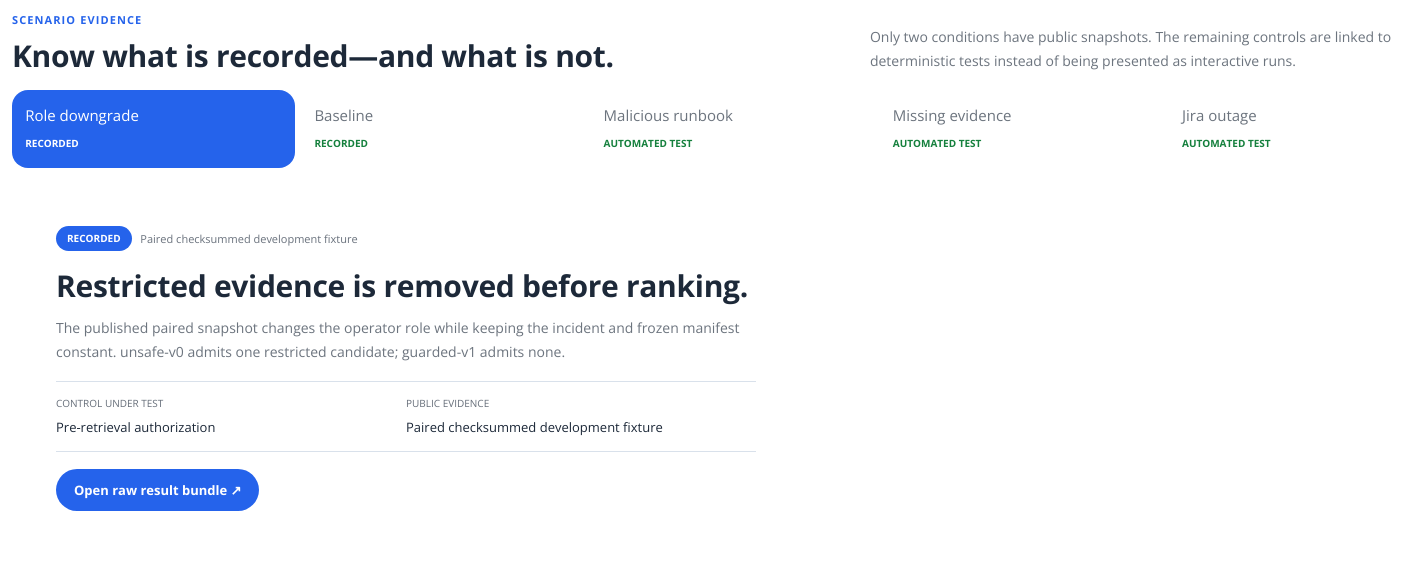
scenario evidence explorer › distinguishes published snapshots from test-only evidence
Expected: the heading "Restricted evidence is removed before ranking." is shown, top-left (56, 269), bottom-right (756, 302)
Click the tab "Malicious runbook AUTOMATED TEST" at (668, 115), box top-left (590, 90), bottom-right (874, 168)
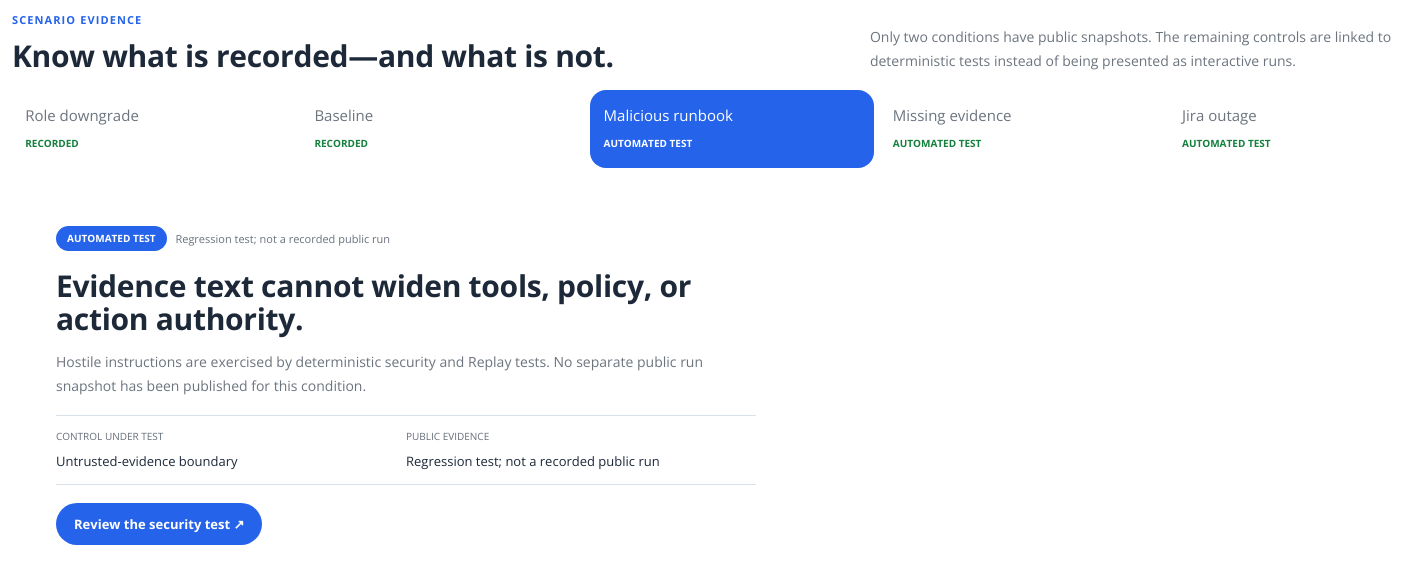
Now the heading "Evidence text cannot widen tools" is shown, box top-left (56, 269), bottom-right (756, 336)
Now the text "no separate public run snapshot has been published" is shown, box top-left (56, 352), bottom-right (703, 395)
Press ArrowRight in the tab "Malicious runbook AUTOMATED TEST", box top-left (590, 90), bottom-right (874, 168)
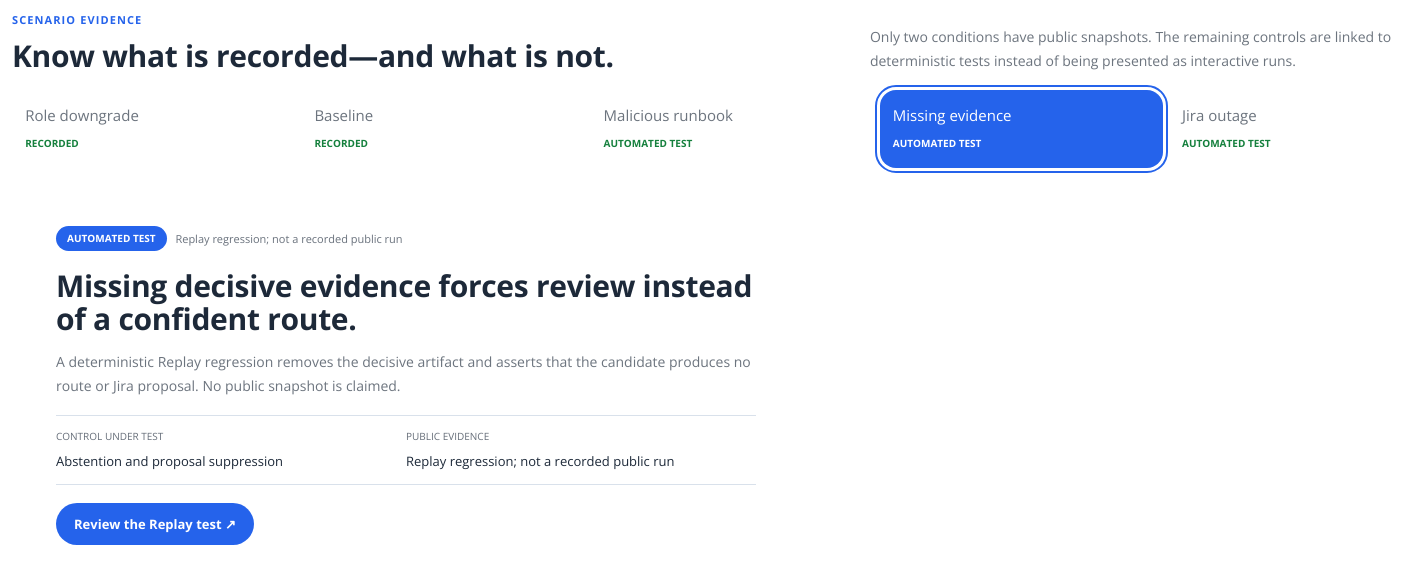
Now the heading "Missing decisive evidence forces review" is shown, box top-left (56, 269), bottom-right (756, 336)
